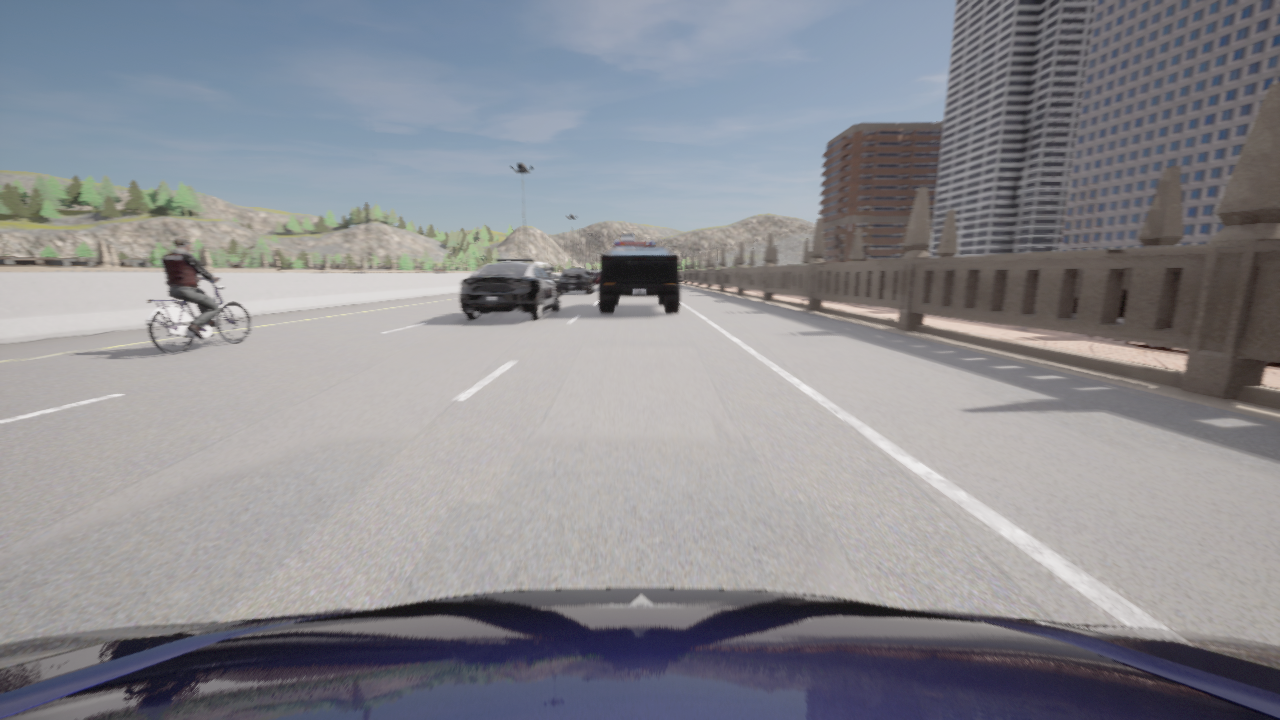cyclist: (0, 588, 1279, 719), (147, 278, 249, 353), (460, 258, 559, 319), (598, 247, 679, 313), (557, 268, 595, 294), (613, 234, 654, 247), (533, 261, 551, 276), (588, 270, 600, 283)
